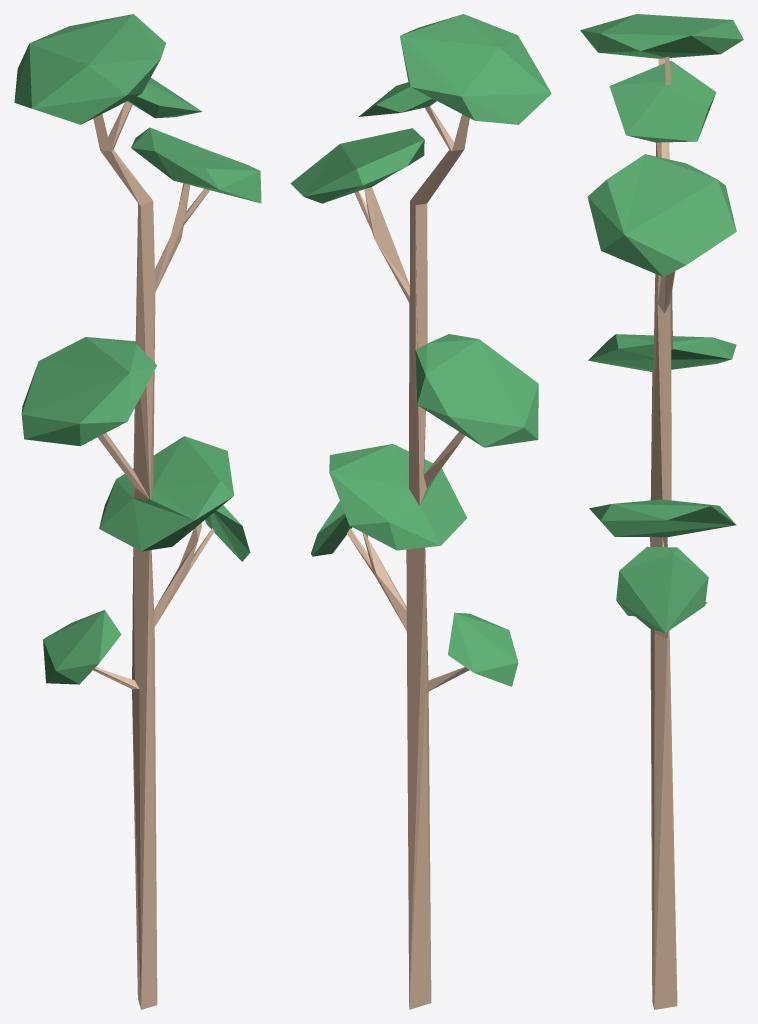
The model's file is tree31.fbx.
The picture shows the model from 3 angles, left to right: view 1: azimuth 30°, elevation 25°; view 2: azimuth 150°, elevation 25°; view 3: azimuth 270°, elevation 25°; orthographic projection.
Parts seen in each view (by area): view 1: treetype31.001; view 2: treetype31.001; view 3: treetype31.001.
Boxes of the visible parts, box(x1,y1,x2,y2) form: treetype31.001: box(14, 14, 261, 1009); treetype31.001: box(290, 14, 551, 1009); treetype31.001: box(580, 14, 743, 1009).
Bounding box in the file's own units: 62.58 × 244 × 37.33.
